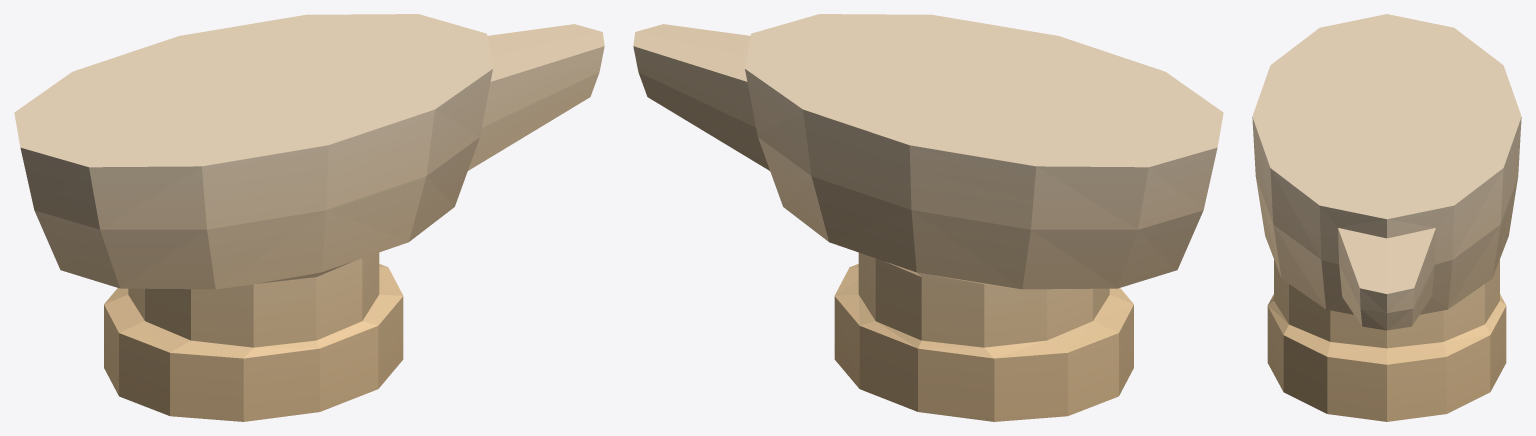
Rendered from Anvil.fbx.
3 renders of one model, left to right at view 1: azimuth 30°, elevation 25°; view 2: azimuth 150°, elevation 25°; view 3: azimuth 270°, elevation 25°, orthographic. The views are drawn at different scales.
Visible parts, largest first — view 1: Blacksmith_04; view 2: Blacksmith_04; view 3: Blacksmith_04.
Part boxes in pixels (bbox=[...]): Blacksmith_04: bbox=[14, 14, 604, 421]; Blacksmith_04: bbox=[633, 14, 1223, 421]; Blacksmith_04: bbox=[1252, 14, 1521, 421].
Bounding box in the file's own units: 229 × 103 × 102.
